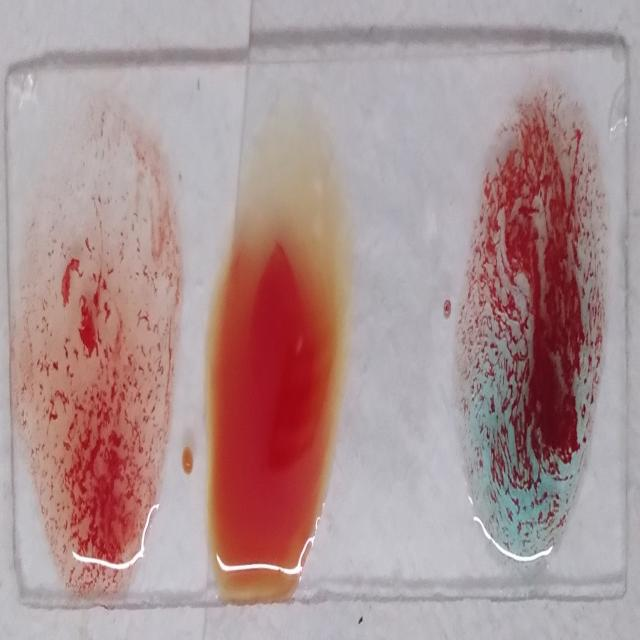A: (469, 100, 603, 555)
D: (15, 101, 174, 592)
